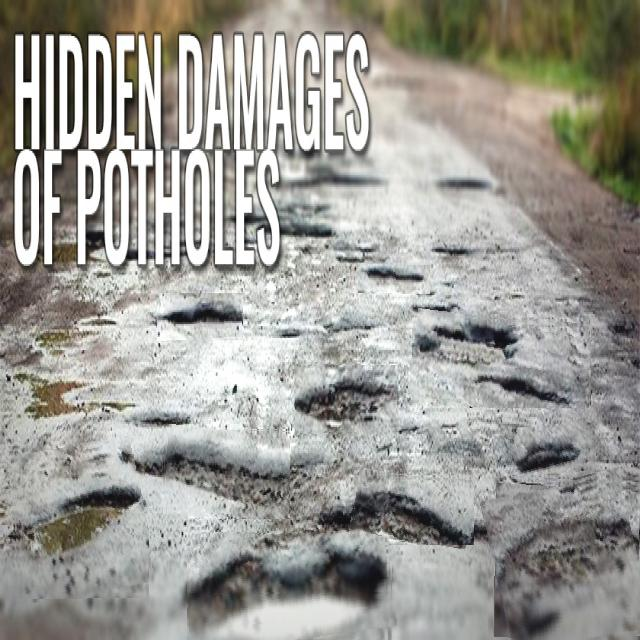Pothole: (488, 474, 640, 640), (187, 525, 395, 640), (12, 441, 149, 599), (411, 313, 591, 408), (162, 428, 290, 520), (352, 472, 474, 545), (295, 365, 399, 435), (508, 423, 595, 477), (157, 293, 243, 342), (358, 263, 430, 294)
